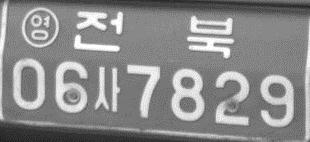0: (10, 57, 45, 111)
2: (214, 69, 249, 126)
6: (53, 60, 88, 113)
7: (125, 63, 161, 118)
8: (169, 67, 204, 122)
9: (259, 74, 295, 128)
사: (93, 64, 121, 113)
영: (21, 5, 59, 49)
전북_D: (73, 10, 234, 58)
